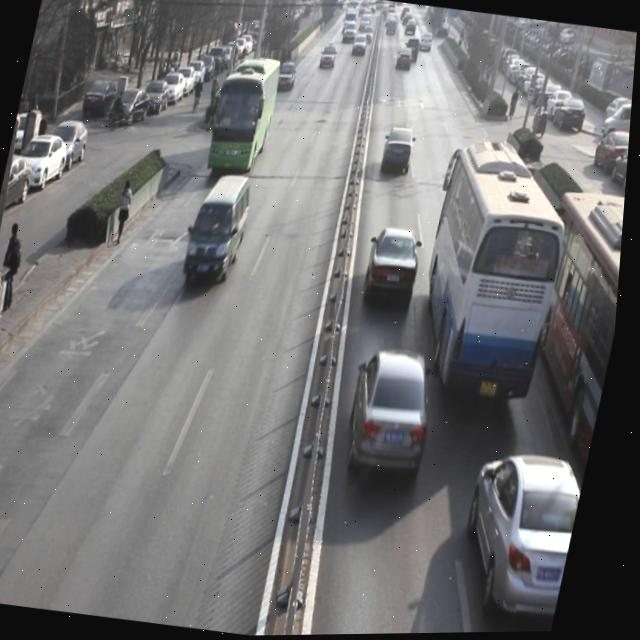car: (456, 442, 586, 634), (341, 341, 455, 491), (361, 225, 434, 311), (379, 123, 423, 178), (275, 59, 301, 93), (318, 43, 341, 73), (350, 32, 371, 62), (395, 46, 417, 73)
truck: (182, 171, 261, 293)
van: (407, 140, 581, 411), (509, 189, 629, 461), (205, 56, 284, 179)
